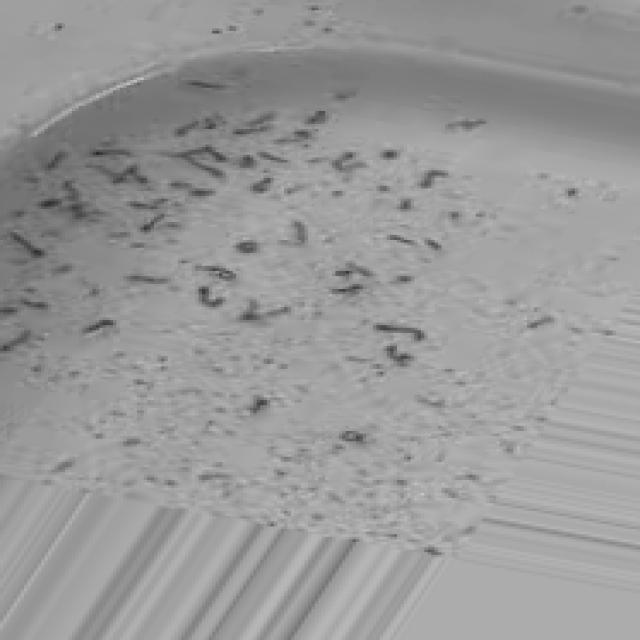larvas: (241, 300, 288, 318), (6, 233, 38, 257), (177, 146, 231, 160), (185, 158, 224, 176), (333, 149, 365, 170), (376, 324, 427, 337), (186, 79, 233, 93), (121, 274, 171, 286), (279, 220, 303, 245), (95, 164, 126, 183), (192, 263, 234, 277), (172, 182, 217, 195), (92, 147, 134, 160), (0, 330, 27, 350), (419, 169, 447, 188), (46, 149, 69, 172), (123, 198, 171, 209), (77, 321, 117, 334), (524, 315, 556, 331), (246, 108, 276, 125), (348, 262, 374, 280), (442, 121, 488, 131), (63, 179, 81, 203), (387, 232, 420, 245), (390, 346, 410, 367), (198, 287, 224, 303), (138, 215, 164, 231), (250, 175, 273, 193), (336, 431, 364, 445), (126, 164, 151, 179), (236, 124, 266, 136), (329, 284, 360, 294), (258, 152, 288, 162), (276, 135, 302, 146), (174, 120, 192, 135), (425, 240, 447, 250)
